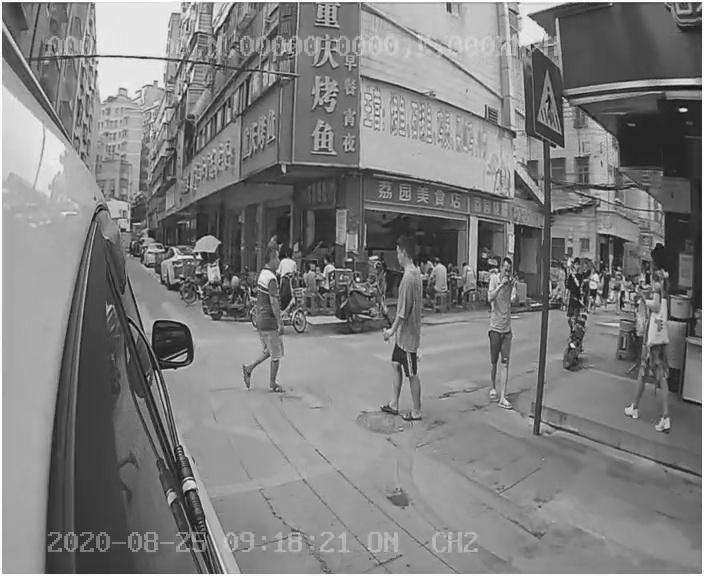person: (232, 244, 302, 402)
